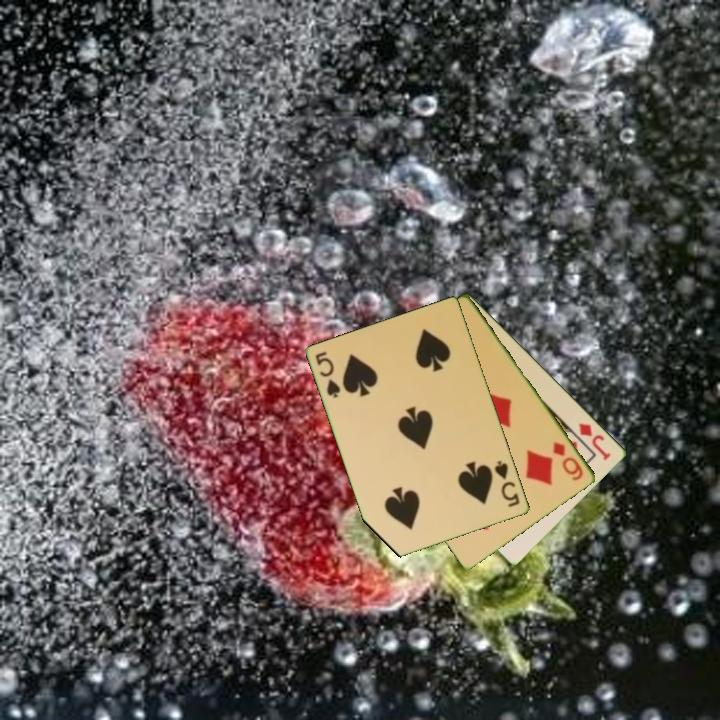5s: (491, 457, 523, 510), (312, 348, 344, 401)
6d: (550, 438, 586, 484)
Jd: (575, 419, 614, 463)
